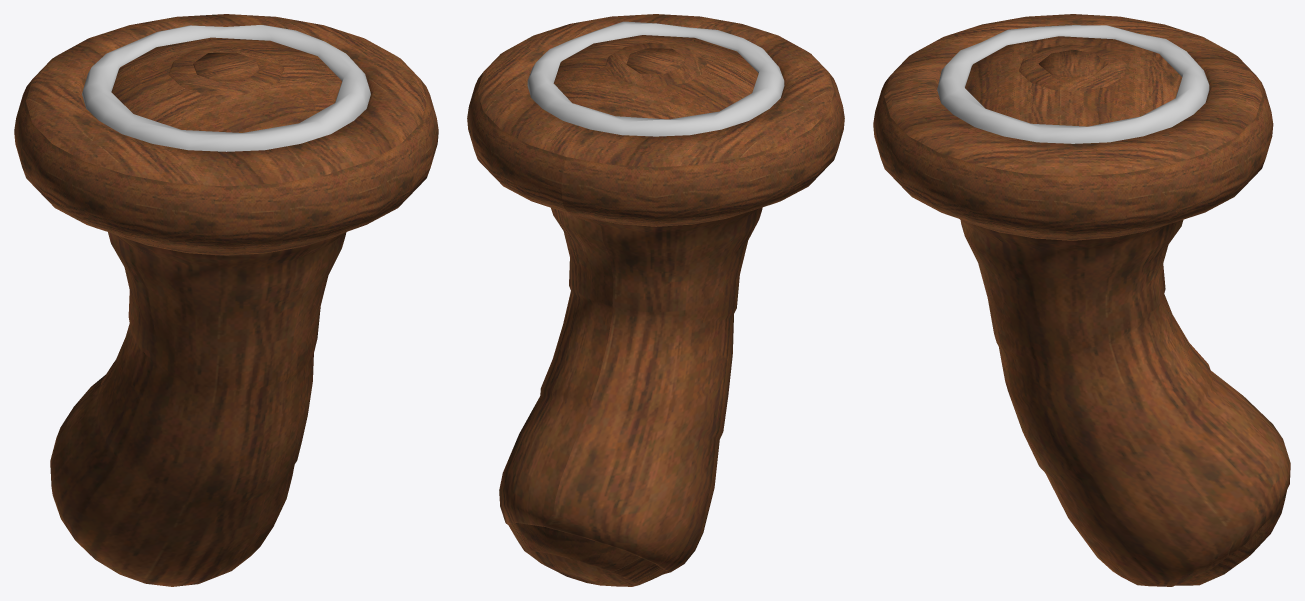
Rendered from kinokotwinsplanetb.dae.
3 renders of one model, left to right at view 1: azimuth 30°, elevation 25°; view 2: azimuth 150°, elevation 25°; view 3: azimuth 270°, elevation 25°, orthographic. The views are drawn at different scales.
Parts seen in each view (by area): view 1: n1b0, n0b1; view 2: n1b0, n0b1; view 3: n1b0, n0b1.
Part boxes in pixels (x1,y1,x2,y2): n1b0: [14, 14, 438, 586]; n0b1: [82, 25, 370, 151]; n1b0: [467, 14, 844, 586]; n0b1: [527, 21, 784, 136]; n1b0: [873, 14, 1290, 586]; n0b1: [937, 25, 1209, 143].
Size of the model in its own units: 1632 by 2298 by 1693.
